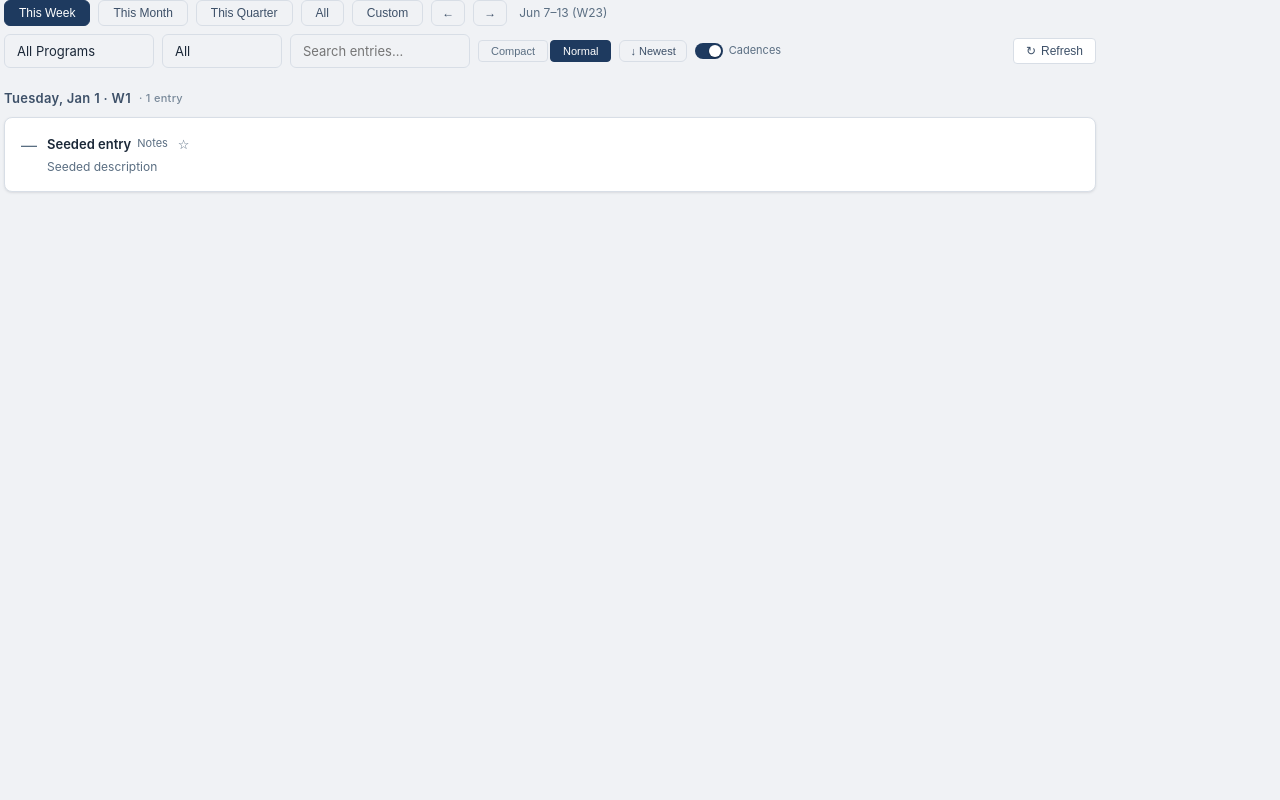
Test: TimelineView — entry edit modal dirty-state close guard (Task 9.14) › Cancel from the confirm dialog keeps the modal open
Step 1. Click the text "Seeded entry" → click(89, 144), box [47, 134, 131, 155]
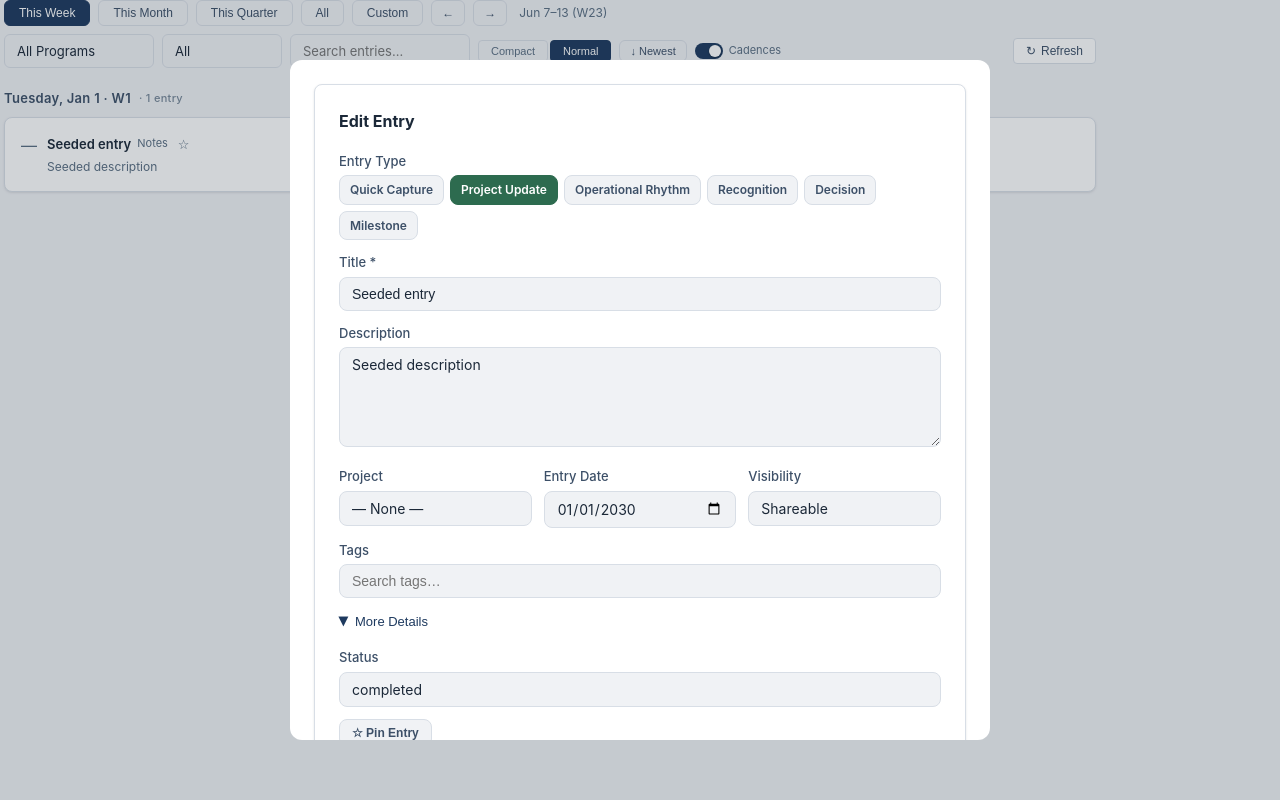
Step 2. Replace the text in the field showing "Seeded entry" with "Edited title" → (640, 294), box [339, 277, 941, 311]
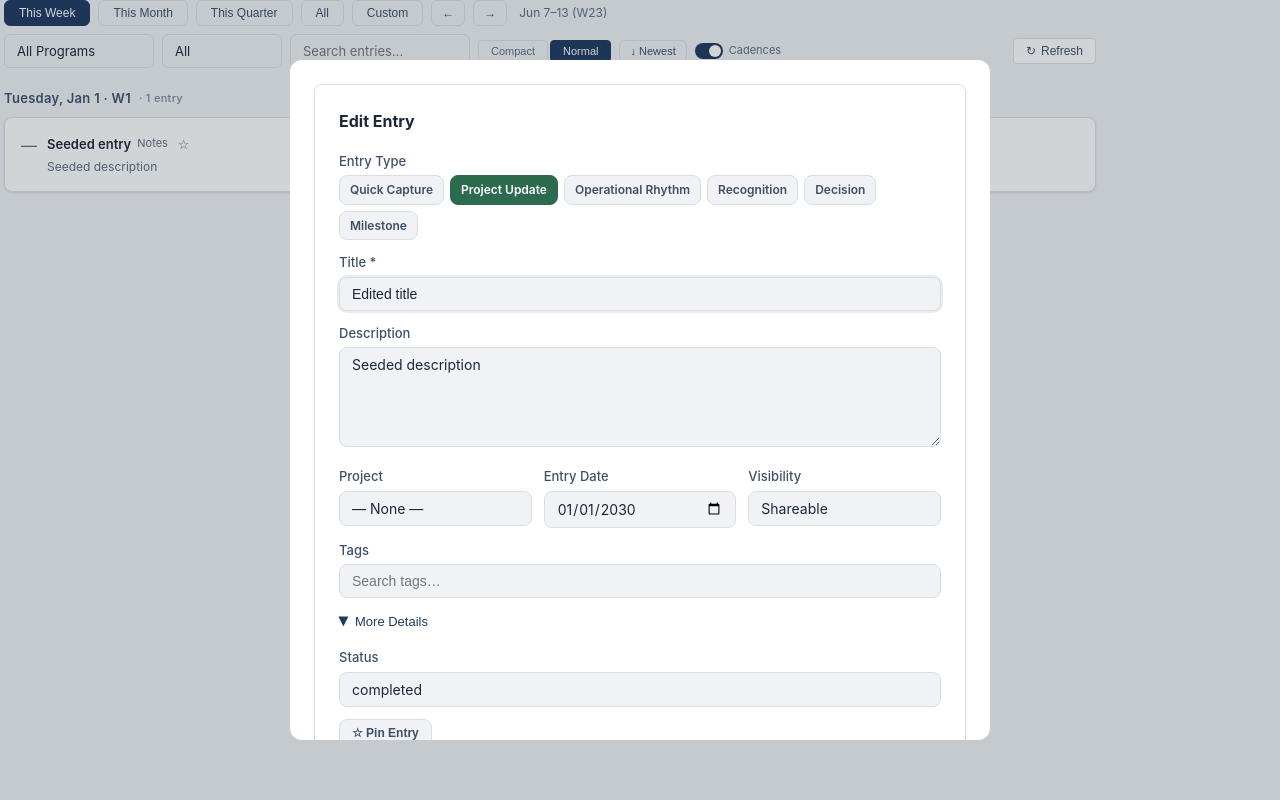
Step 3. Press Escape in the dialog "Edit Entry"
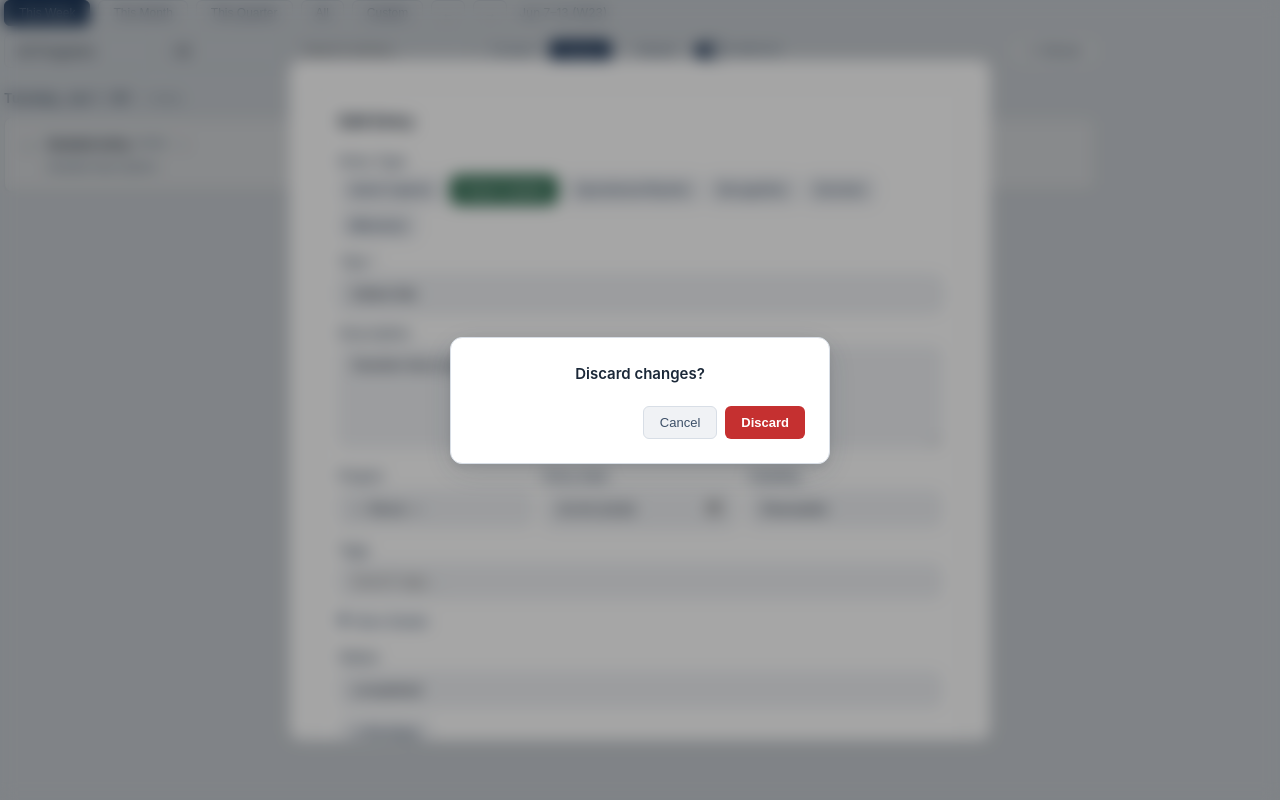
Step 4. Click the button "Cancel" → click(680, 422), box [643, 406, 717, 438]
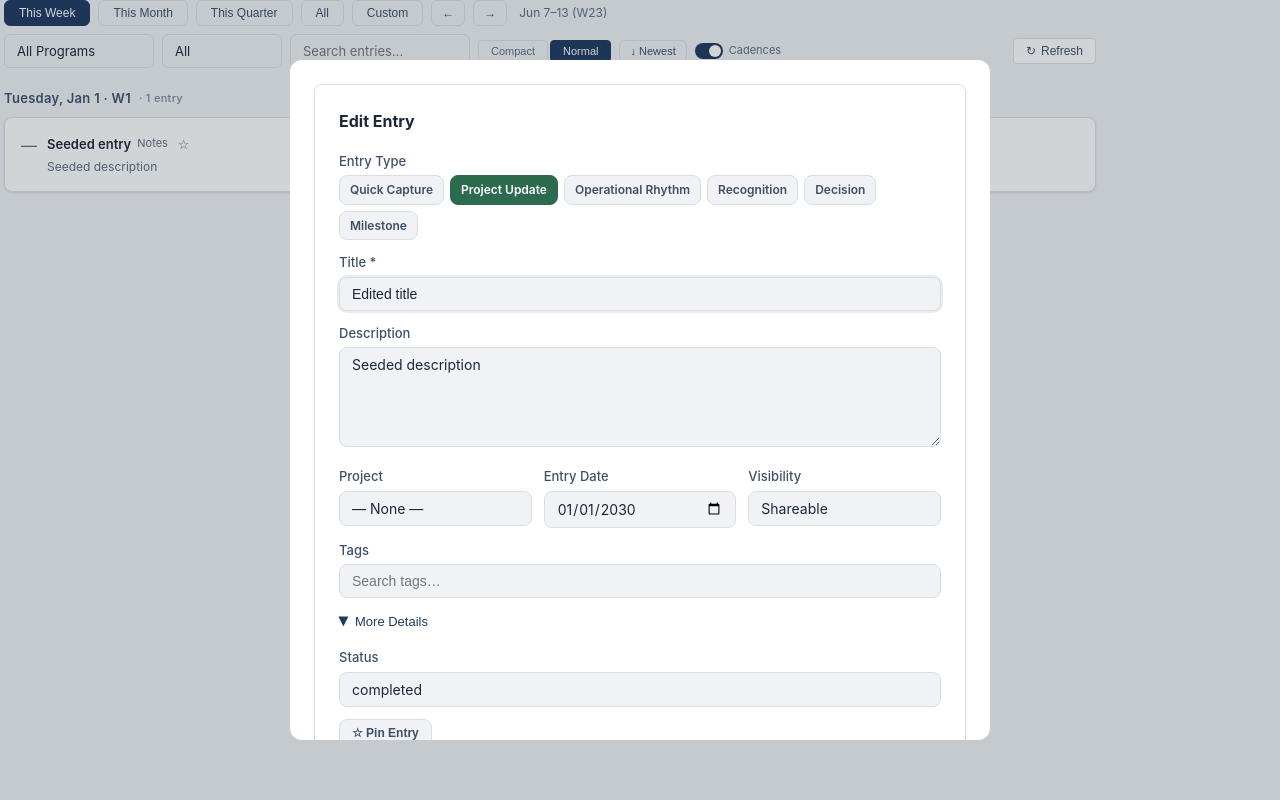
Result: the heading "Edit Entry" is shown at [339, 111, 415, 131]
Result: the text "Discard changes" is gone
